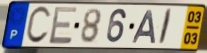6: (105, 8, 127, 46)
8: (79, 8, 103, 45)
A: (131, 9, 157, 45)
C: (24, 5, 53, 46)
E: (48, 6, 79, 46)
I: (157, 8, 174, 47)
